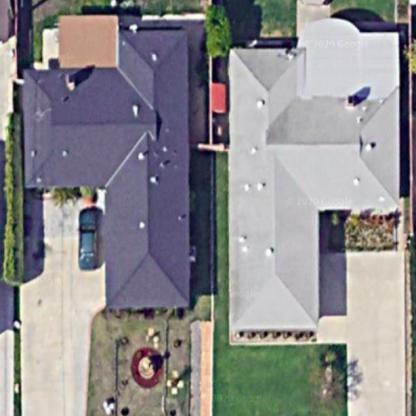car: (75, 202, 102, 275)
